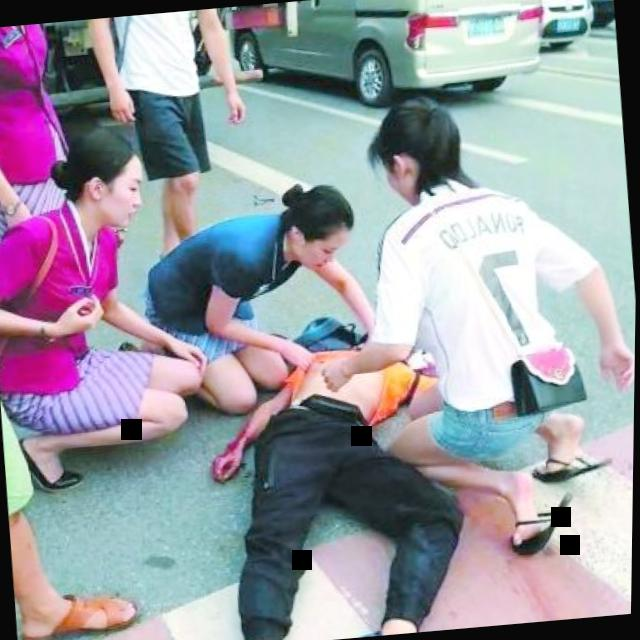Fall-Detected: (187, 302, 484, 640)
